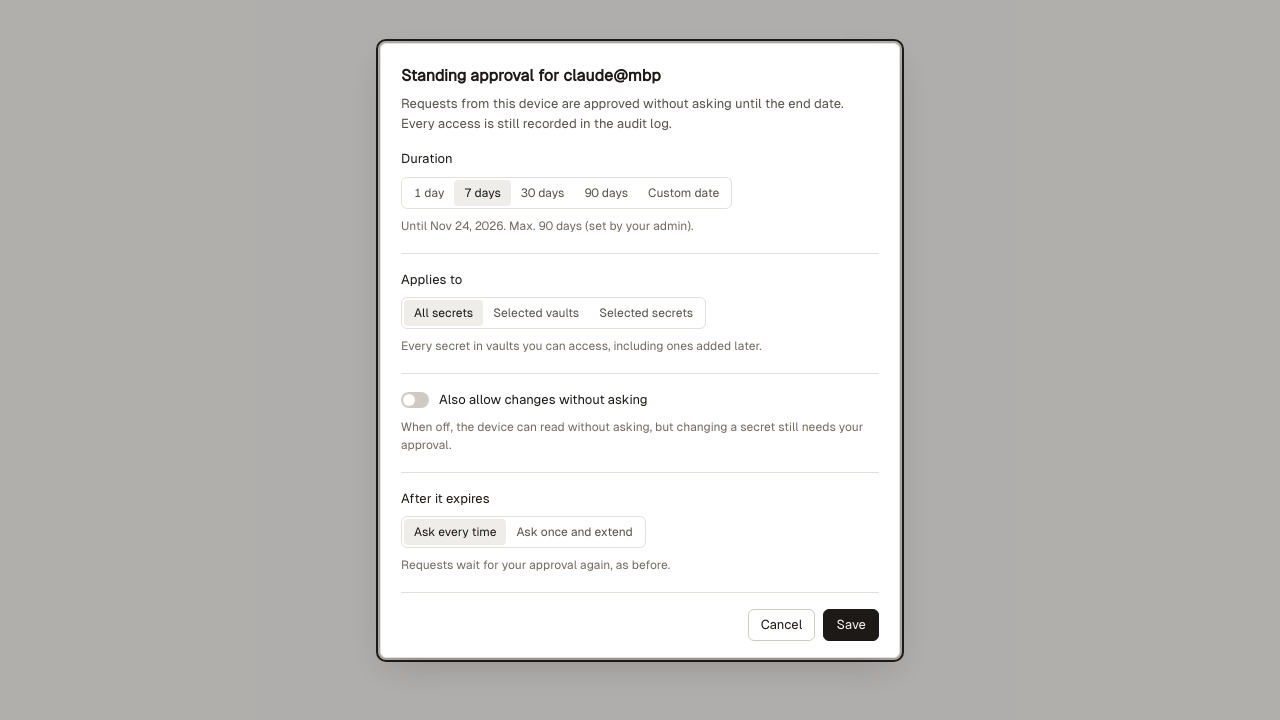
it: StandingApprovalDialog › saves the defaults as a full PUT body (7 days, all secrets, ask after expiry)
Click the button "Save" at (851, 625), box top-left (824, 609), bottom-right (879, 641)
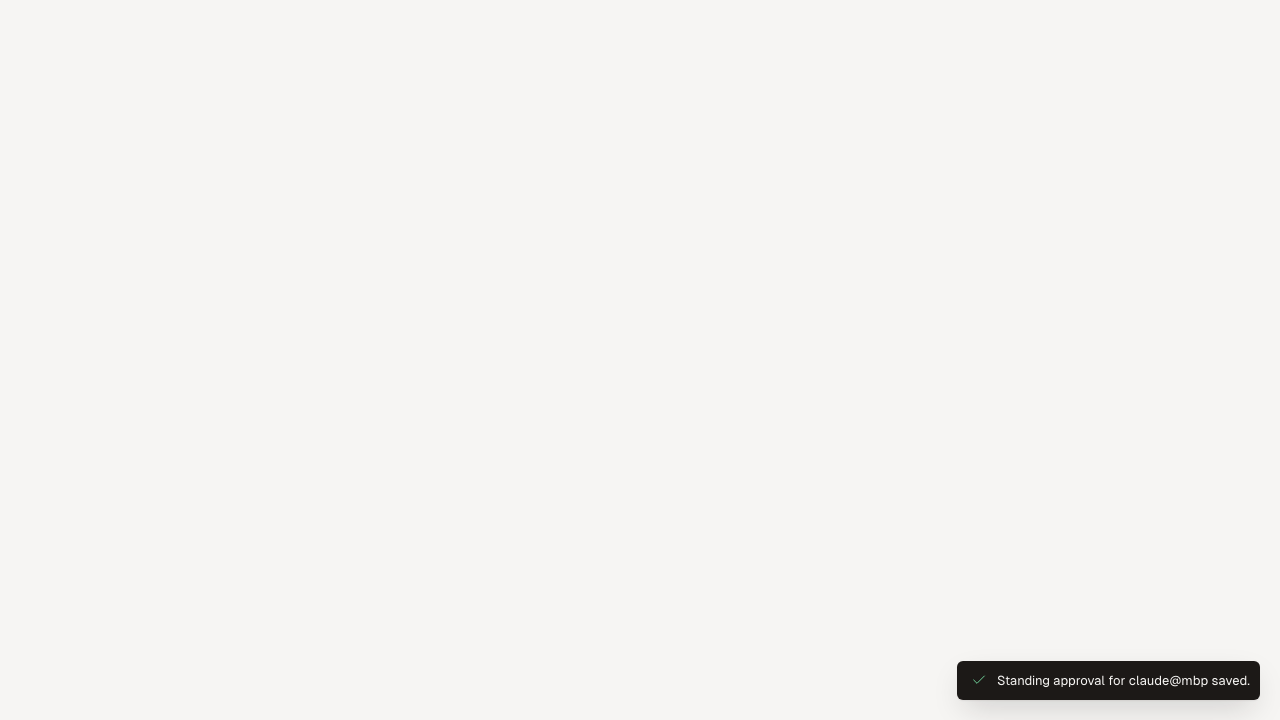
Result: the text "Standing approval for claude@mbp saved." is shown at top-left (997, 670), bottom-right (1250, 690)
Result: the dialog is gone
